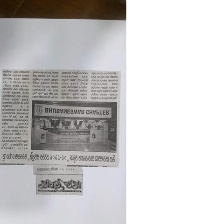news_paper: (0, 67, 122, 196)
